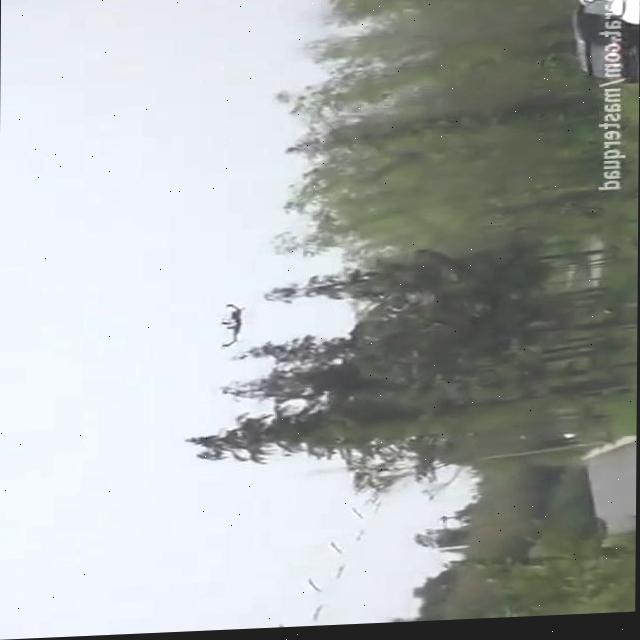drone: (211, 302, 247, 354)
